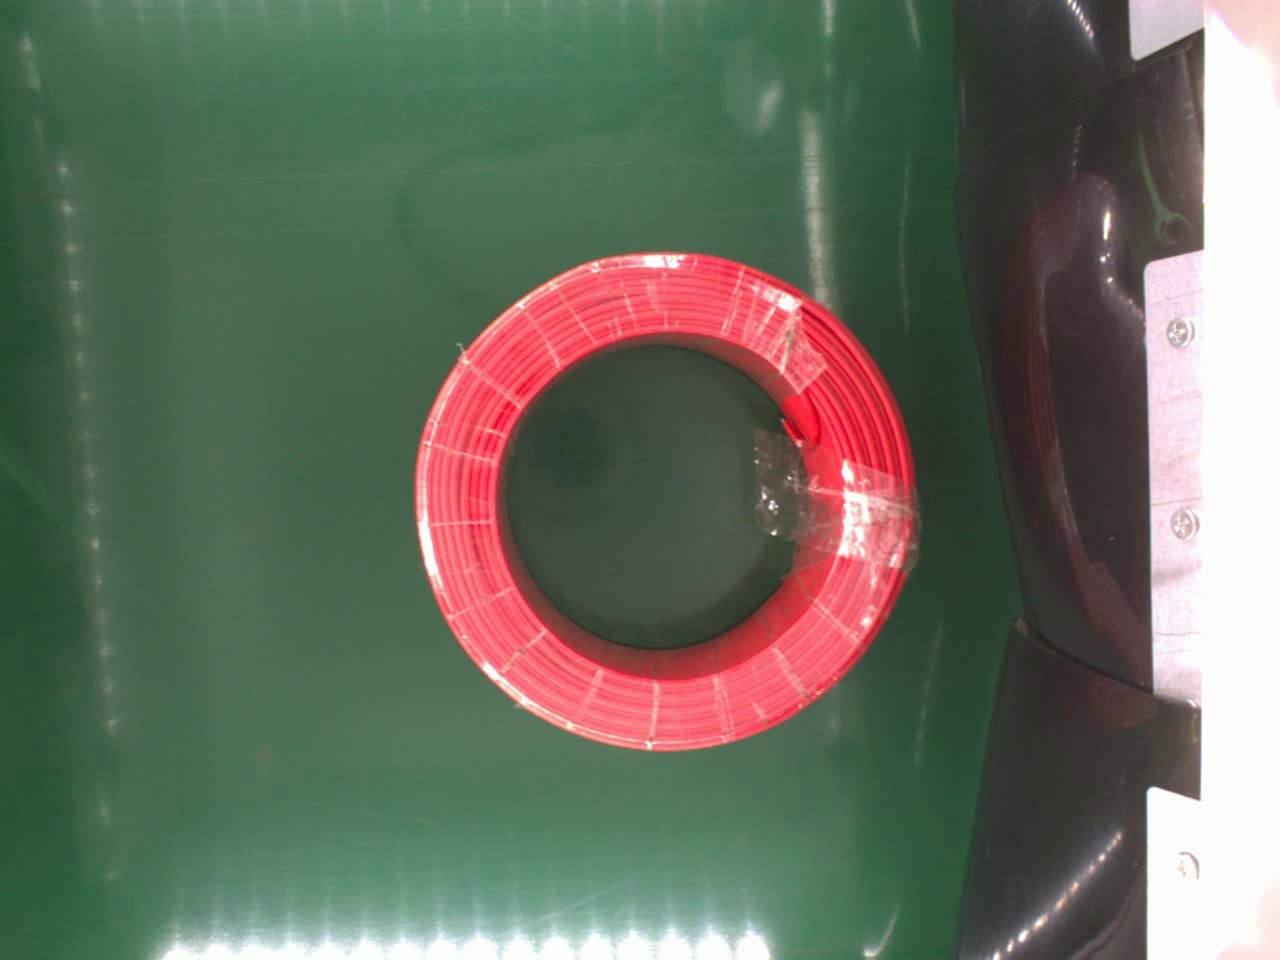red: (408, 247, 920, 759)
